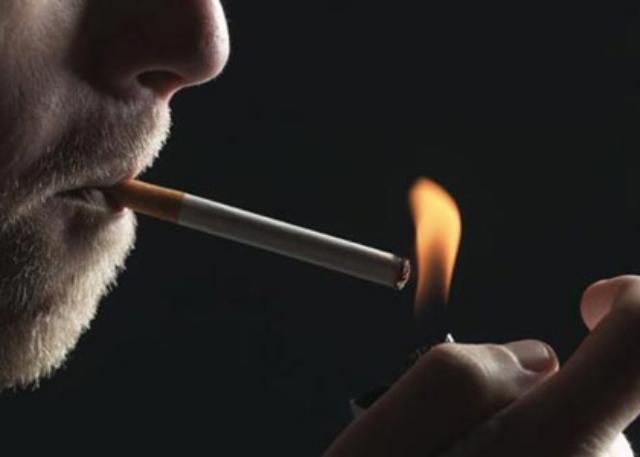Smoking: (120, 176, 412, 300)
